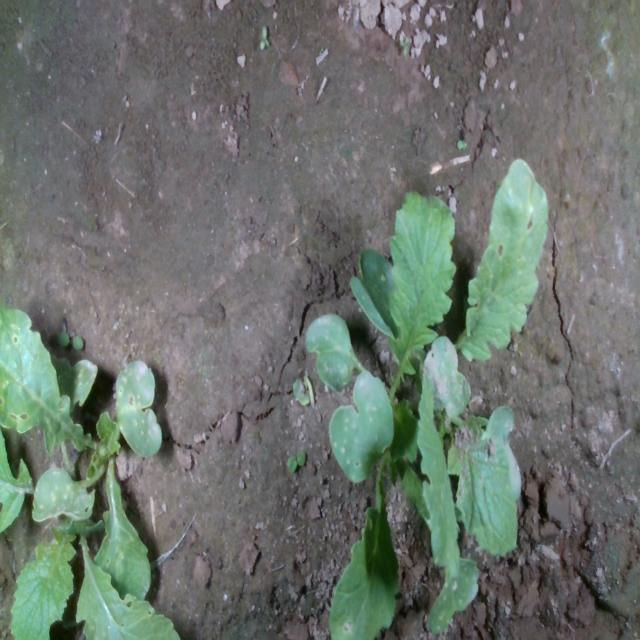weed: (56, 327, 84, 350), (286, 447, 304, 473), (455, 137, 468, 150)
